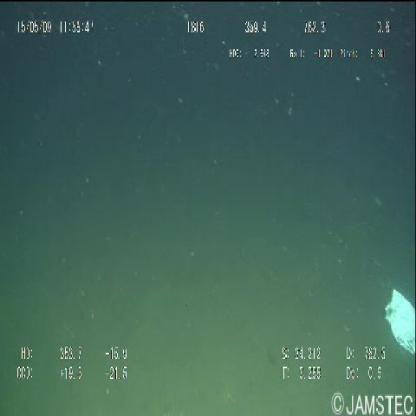Rác: (385, 290, 415, 357)
